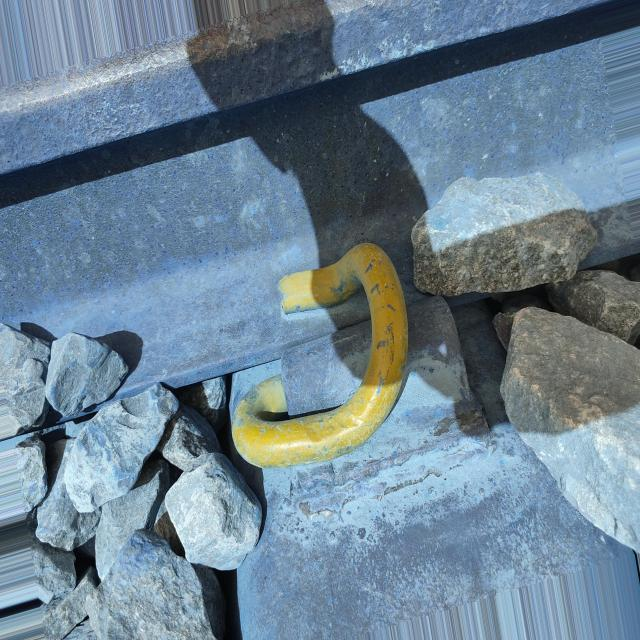Good Fasteners: (216, 234, 486, 540)
